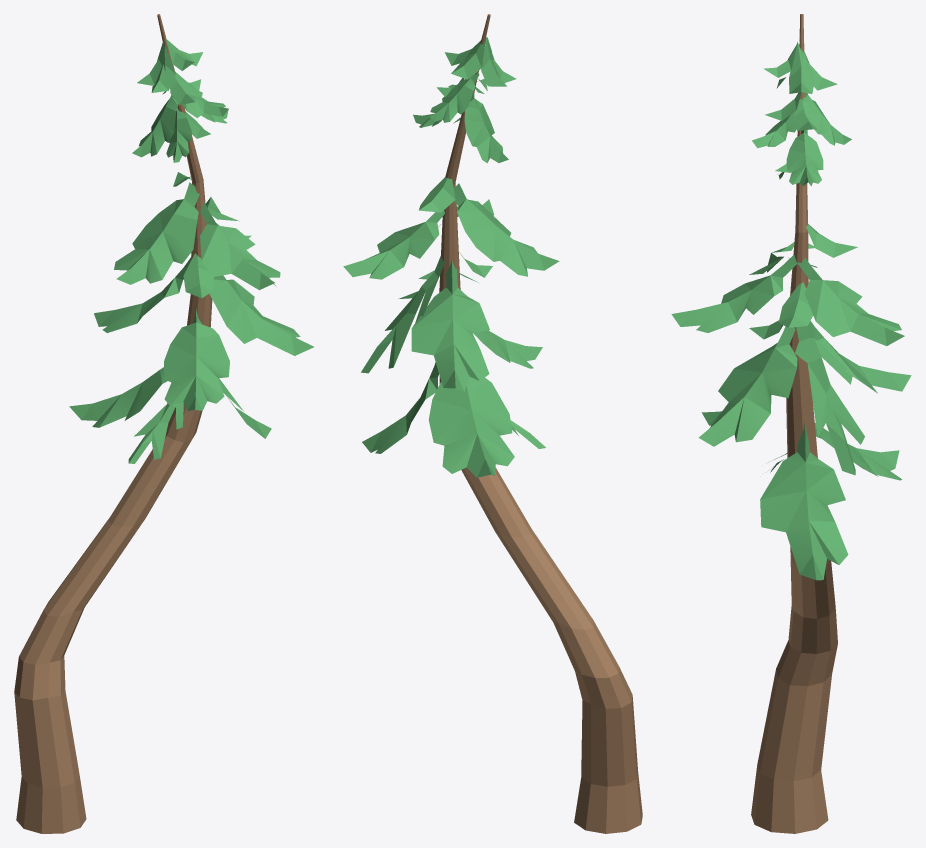
File: Pine model B (1)_1.glb
3 views of the same model, side by side, from view 1: azimuth 30°, elevation 25°; view 2: azimuth 150°, elevation 25°; view 3: azimuth 270°, elevation 25° (orthographic). The views are drawn at different scales.
Visible parts, largest first — view 1: 02_Leaves, 01_Trunk; view 2: 02_Leaves, 01_Trunk; view 3: 02_Leaves, 01_Trunk.
Boxes of the visible parts, x1,y1,x2,y2 form: 02_Leaves: [69, 38, 313, 463]; 01_Trunk: [14, 14, 212, 833]; 02_Leaves: [343, 37, 559, 477]; 01_Trunk: [439, 14, 642, 833]; 02_Leaves: [671, 40, 911, 580]; 01_Trunk: [751, 14, 837, 833].
Size of the model in its own units: 3.55 by 10 by 2.52.
